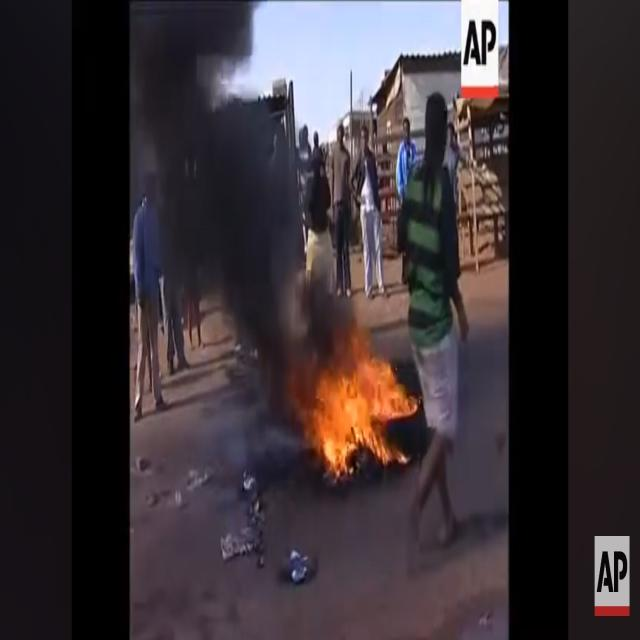fire: (312, 329, 417, 475)
